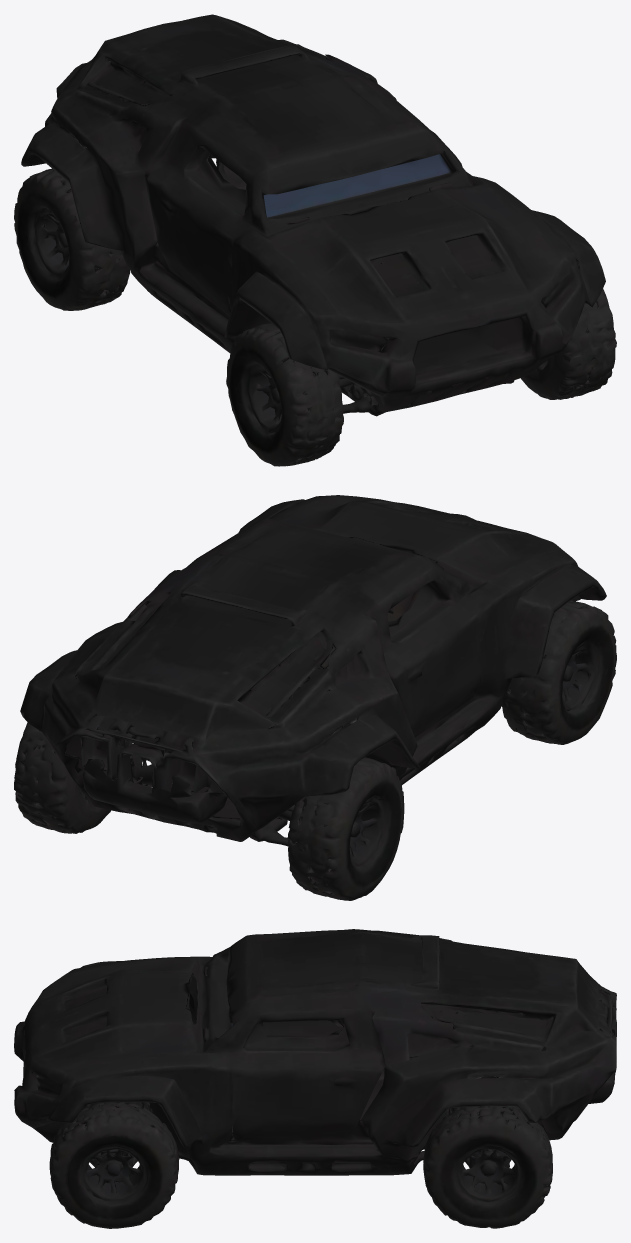
File: armoured.glb
3 renders of one model, top to bottom at view 1: azimuth 30°, elevation 25°; view 2: azimuth 150°, elevation 25°; view 3: azimuth 270°, elevation 25°, orthographic. The views are drawn at different scales.
Visible parts, largest first — view 1: world; view 2: world; view 3: world.
Boxes of the visible parts, x1=… form: world: x1=14, y1=14, x2=616, y2=466; world: x1=14, y1=495, x2=616, y2=900; world: x1=14, y1=929, x2=616, y2=1228.
Size of the model in its own units: 0.5646 by 0.3811 by 1.
1 material, 1 textured.
